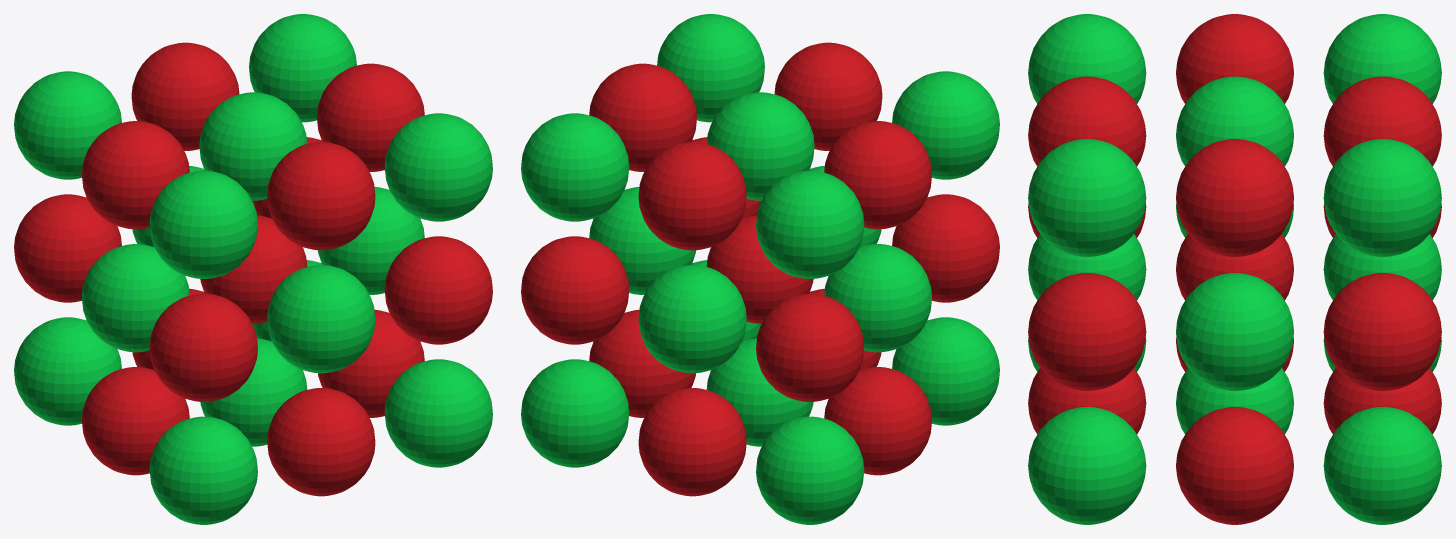
Rendered from sphere-matrix.obj.
3 views of the same model, side by side, from view 1: azimuth 30°, elevation 25°; view 2: azimuth 150°, elevation 25°; view 3: azimuth 270°, elevation 25° (orthographic). The views are drawn at different scales.
Visible parts, largest first — view 1: Sphere.007, Sphere.033, Sphere.034, Sphere.015, Sphere.016, Sphere.006, Sphere.004, Sphere.013, Sphere.031, Sphere.029, Sphere.030, Sphere.002 (+11 smaller); view 2: Sphere.008, Sphere.028, Sphere.035, Sphere.010, Sphere.017, Sphere.001, Sphere.002, Sphere.011, Sphere.029, Sphere.031, Sphere.030, Sphere.004 (+11 smaller); view 3: Sphere.034, Sphere.035, Sphere.016, Sphere.017, Sphere.007, Sphere.008, Sphere.014, Sphere.005, Sphere.032, Sphere.027, Sphere.029, Sphere.031 (+9 smaller).
Part boxes in pixels (left/top/right/bottom): Sphere.007: left=384, top=359, right=492, bottom=467; Sphere.033: left=267, top=142, right=375, bottom=250; Sphere.034: left=384, top=113, right=492, bottom=221; Sphere.015: left=267, top=265, right=375, bottom=373; Sphere.016: left=384, top=236, right=492, bottom=344; Sphere.006: left=267, top=388, right=375, bottom=496; Sphere.004: left=149, top=416, right=257, bottom=524; Sphere.013: left=149, top=293, right=257, bottom=401; Sphere.031: left=149, top=170, right=257, bottom=278; Sphere.029: left=14, top=71, right=121, bottom=179; Sphere.030: left=82, top=121, right=189, bottom=229; Sphere.002: left=14, top=317, right=121, bottom=425; Sphere.008: left=521, top=359, right=629, bottom=467; Sphere.028: left=638, top=142, right=746, bottom=250; Sphere.035: left=521, top=113, right=629, bottom=221; Sphere.010: left=638, top=265, right=746, bottom=373; Sphere.017: left=521, top=236, right=629, bottom=344; Sphere.001: left=638, top=388, right=746, bottom=496; Sphere.002: left=756, top=416, right=864, bottom=524; Sphere.011: left=756, top=293, right=864, bottom=401; Sphere.029: left=756, top=170, right=864, bottom=278; Sphere.031: left=892, top=71, right=999, bottom=179; Sphere.030: left=824, top=121, right=931, bottom=229; Sphere.004: left=892, top=317, right=999, bottom=425; Sphere.034: left=1028, top=139, right=1146, bottom=256; Sphere.035: left=1323, top=139, right=1441, bottom=256; Sphere.016: left=1028, top=273, right=1146, bottom=390; Sphere.017: left=1323, top=273, right=1441, bottom=390; Sphere.007: left=1028, top=407, right=1146, bottom=524; Sphere.008: left=1323, top=407, right=1441, bottom=524; Sphere.014: left=1176, top=273, right=1293, bottom=390; Sphere.005: left=1176, top=407, right=1293, bottom=524; Sphere.032: left=1176, top=139, right=1293, bottom=256; Sphere.027: left=1176, top=76, right=1293, bottom=166; Sphere.029: left=1323, top=14, right=1441, bottom=103; Sphere.031: left=1028, top=14, right=1146, bottom=103.
Size of what is drawn, in the model's own units: 7 by 7 by 7.
